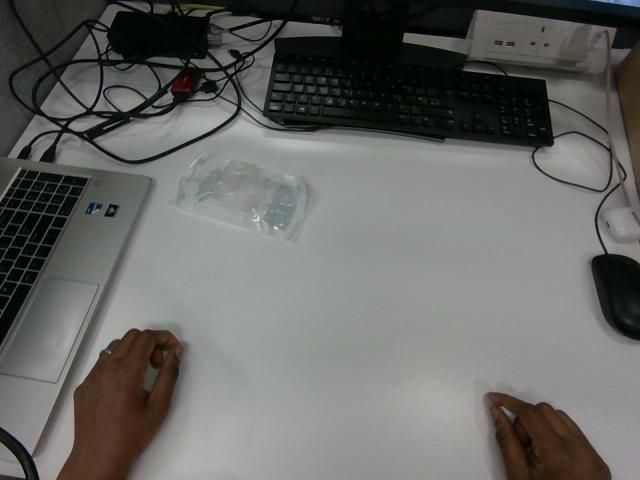gallipot: (176, 151, 306, 239)
